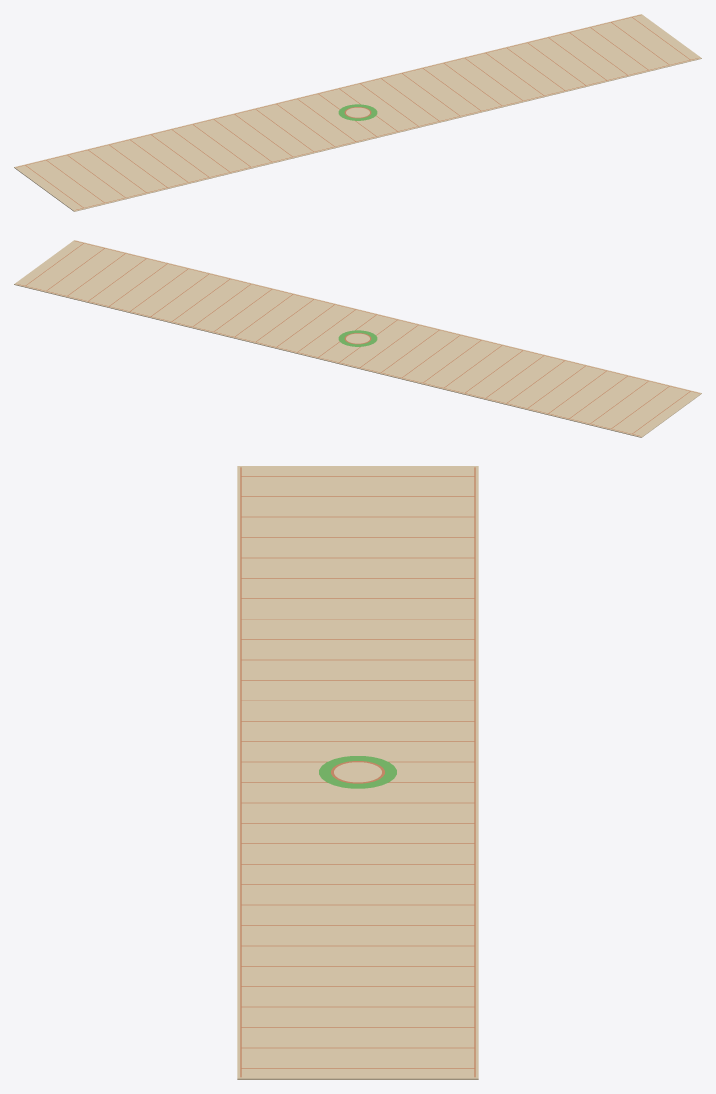
File: CM_Plaza_Pad.fbx
3 renders of one model, top to bottom at view 1: azimuth 30°, elevation 25°; view 2: azimuth 150°, elevation 25°; view 3: azimuth 270°, elevation 25°, orthographic. The views are drawn at different scales.
Visible parts, largest first — view 1: Paving; view 2: Paving; view 3: Paving.
Part boxes in pixels (x1=…): Paving: x1=14, y1=14, x2=701, y2=211; Paving: x1=14, y1=240, x2=701, y2=437; Paving: x1=237, y1=466, x2=478, y2=1079.
Bounding box in the file's own units: 960 × 160 × 1.01.
1 material, 1 textured.
